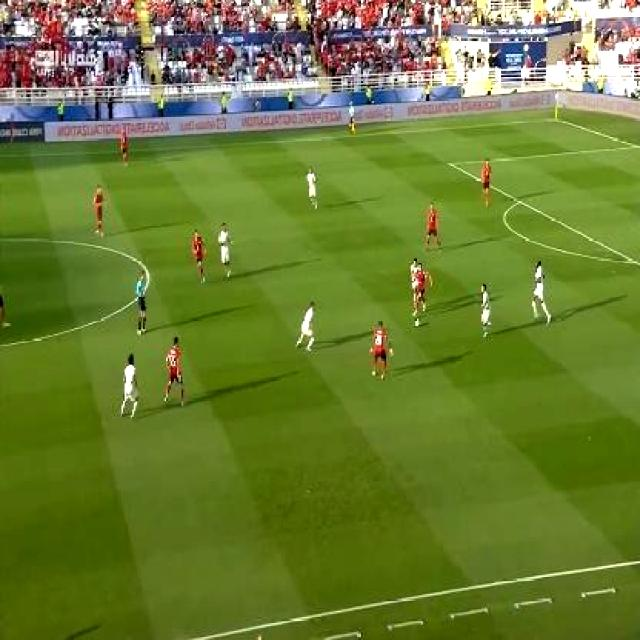bigarea_top_inner: (446, 154, 459, 171)
bigarea_top_outter: (629, 137, 640, 154)
bottom_arc_area_intersection: (626, 249, 640, 269)
corner: (550, 111, 564, 123)
top_arc_area_intersection: (512, 191, 530, 209)
